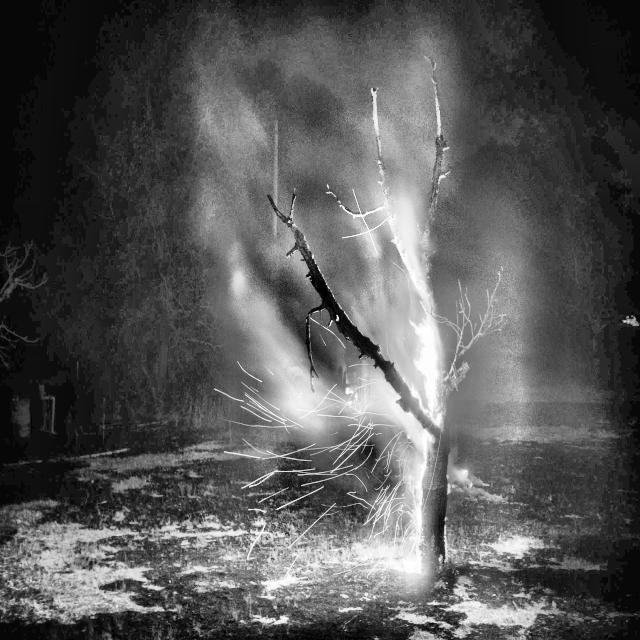fire: (295, 108, 518, 612)
